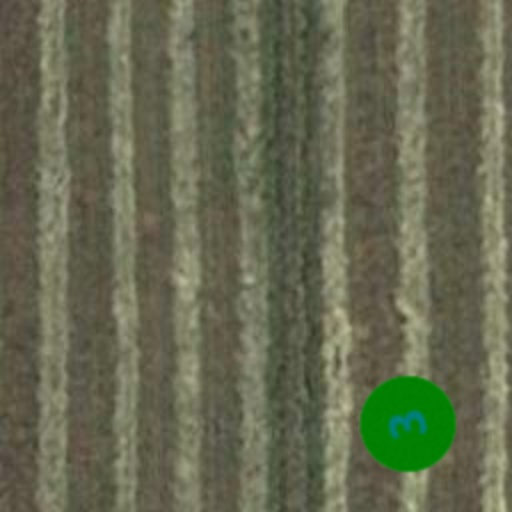circle: (348, 364, 468, 484)
